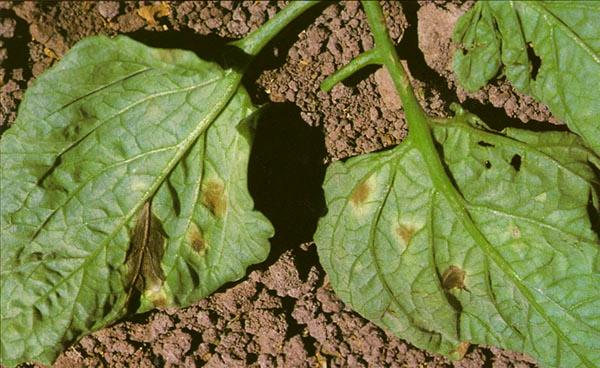Tomato mold leaf: (0, 37, 278, 347), (315, 122, 599, 354)
